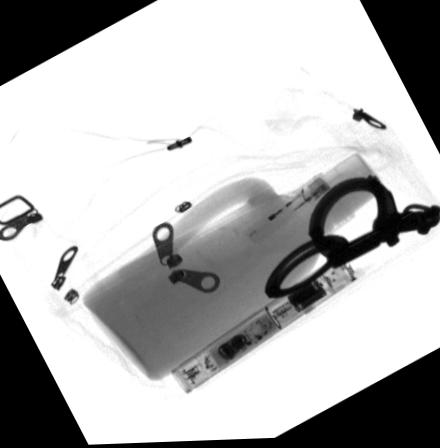Baton: (168, 261, 358, 394)
HandCuffs: (263, 176, 440, 302)
Lighter: (241, 173, 332, 247)
